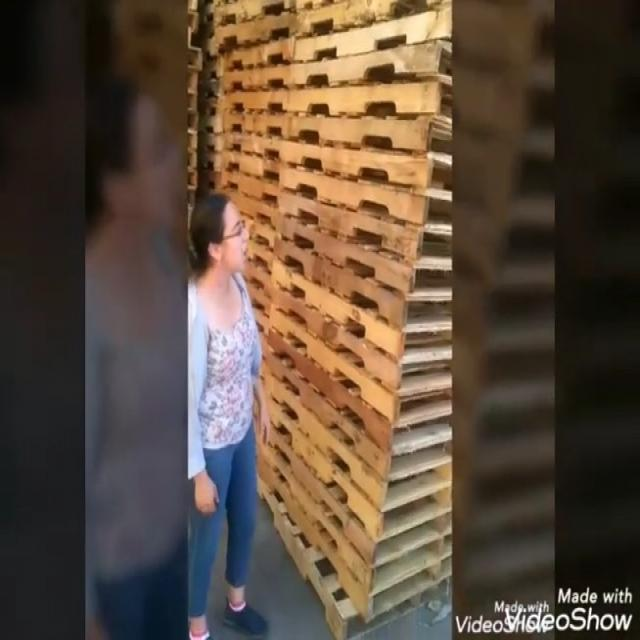Palette: (278, 0, 457, 640), (202, 0, 280, 322), (187, 1, 205, 216)
